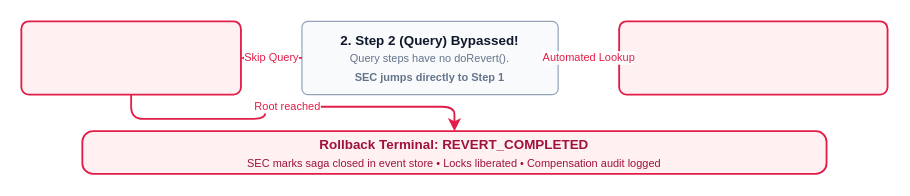
This 910x196 diagram has some shape labels left out. The shapes that lost their labels are listed below. From the top down, each one's box as (x1, y1, x2, y2) in pixels, then its label:
(20, 20, 241, 95): 3. Command 1.doRevert() Compensates Step 1 Calls resumeToNextDefaultExecutor()
(618, 20, 888, 95): 1. Command 3.doRevert() Compensates Step 3 Calls resumeToNextDefaultExecutor()
